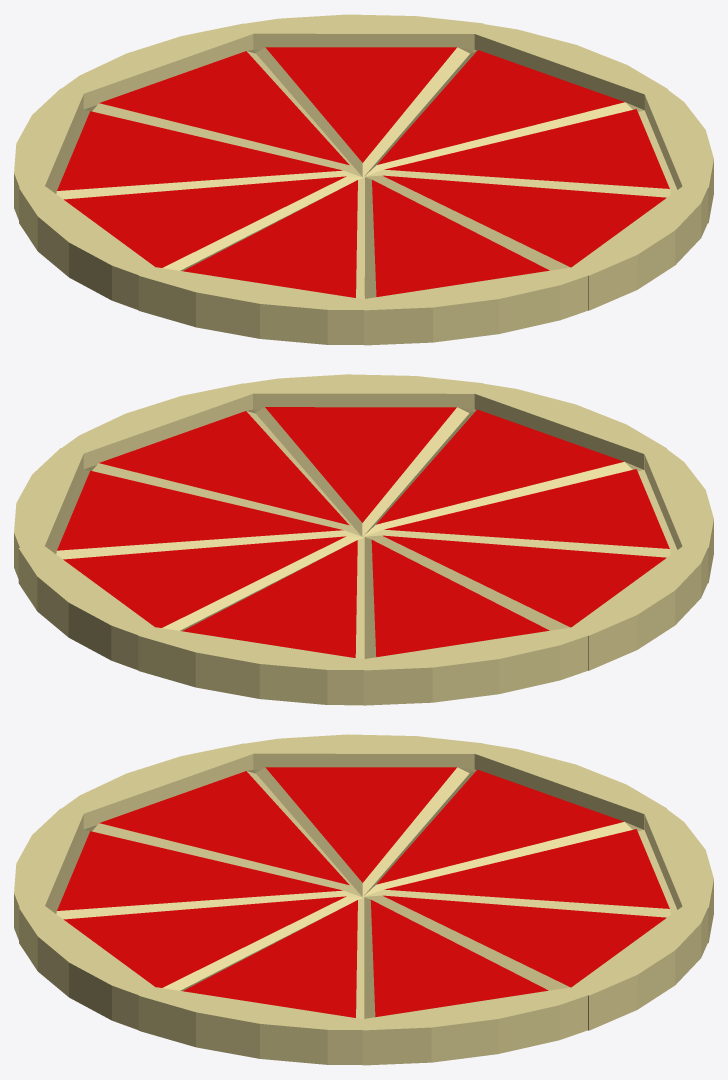
Rendered from pizzaparts.fbx.
The picture shows the model from 3 angles, top to bottom: view 1: azimuth 30°, elevation 25°; view 2: azimuth 150°, elevation 25°; view 3: azimuth 270°, elevation 25°; orthographic projection.
Parts seen in each view (by area): view 1: Circle.005, Circle.006, Circle.001, Circle.007, Circle.004, Circle.002, Circle, Circle.008, Circle.003; view 2: Circle.003, Circle.002, Circle.007, Circle.004, Circle.001, Circle.008, Circle.006, Circle, Circle.005; view 3: Circle, Circle.008, Circle.004, Circle.001, Circle.007, Circle.005, Circle.003, Circle.002, Circle.006.
Boxes of the visible parts, <box> form: Circle.005: <box>138,177,365,344</box>; Circle.006: <box>364,177,589,345</box>; Circle.001: <box>245,14,483,177</box>; Circle.007: <box>365,175,707,310</box>; Circle.004: <box>19,176,363,310</box>; Circle.002: <box>62,23,362,177</box>; Circle: <box>363,24,667,177</box>; Circle.008: <box>365,89,713,223</box>; Circle.003: <box>14,88,362,219</box>; Circle.003: <box>363,537,588,705</box>; Circle.002: <box>138,537,364,705</box>; Circle.007: <box>244,374,482,536</box>; Circle.004: <box>364,535,707,670</box>; Circle.001: <box>18,536,363,670</box>; Circle.008: <box>62,383,361,536</box>; Circle.006: <box>363,383,666,536</box>; Circle: <box>14,448,363,578</box>; Circle.005: <box>363,448,713,583</box>; Circle: <box>362,897,587,1065</box>; Circle.008: <box>138,898,365,1064</box>; Circle.004: <box>243,734,483,896</box>; Circle.001: <box>364,895,707,1030</box>; Circle.007: <box>19,896,363,1029</box>; Circle.005: <box>61,743,362,897</box>; Circle.003: <box>363,743,666,897</box>; Circle.002: <box>364,808,713,942</box>; Circle.006: <box>14,808,362,939</box>.
Size of the model in its own units: 198 by 10.94 by 198.
